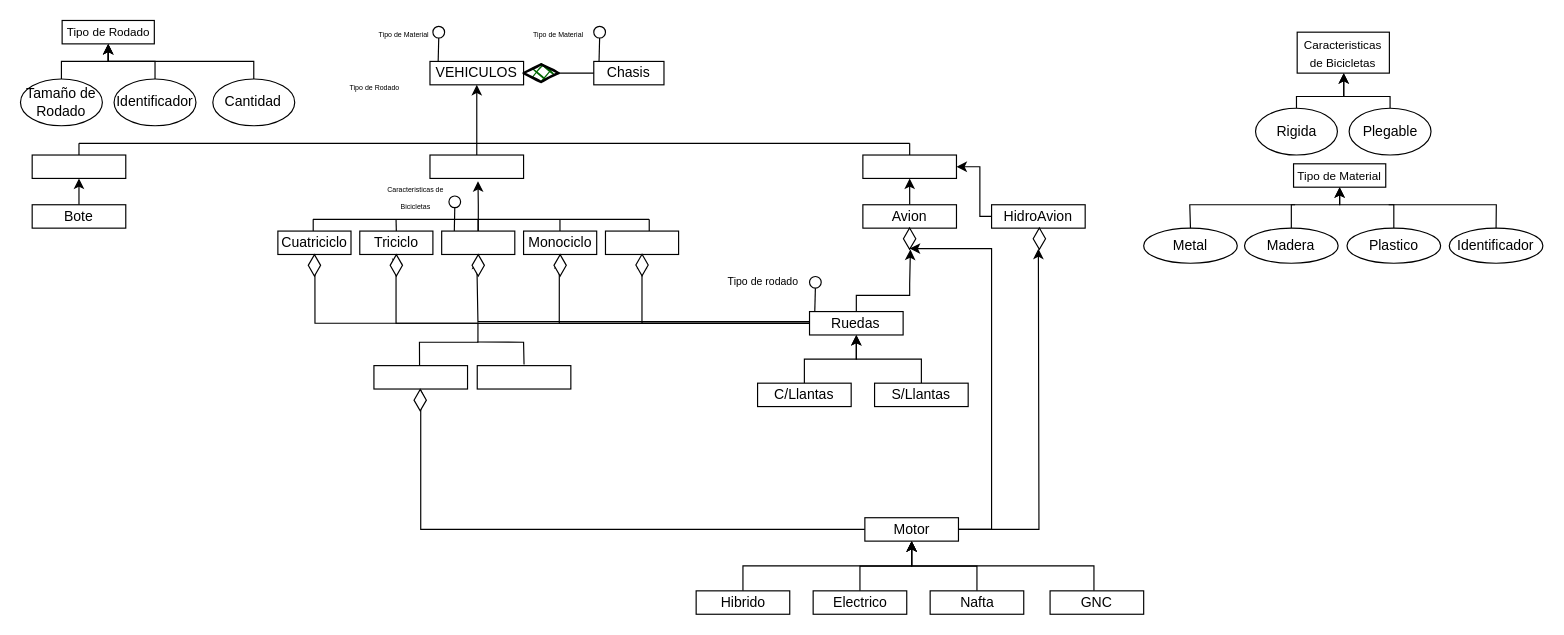
The diagram is 1564 pixels wide and 635 high, and some of its shapes have lost their labels. Here are the shapes that lost their labels. From the top down, the centre of each, then its label:
At pixel 78 166: "Acuatico".
At pixel 476 166: "Terrestre".
At pixel 909 166: "Aereo".
At pixel 478 242: "Bicicleta".
At pixel 641 242: "Monopatin".
At pixel 420 376: "C/Motor".
At pixel 523 376: "S/Motor".
